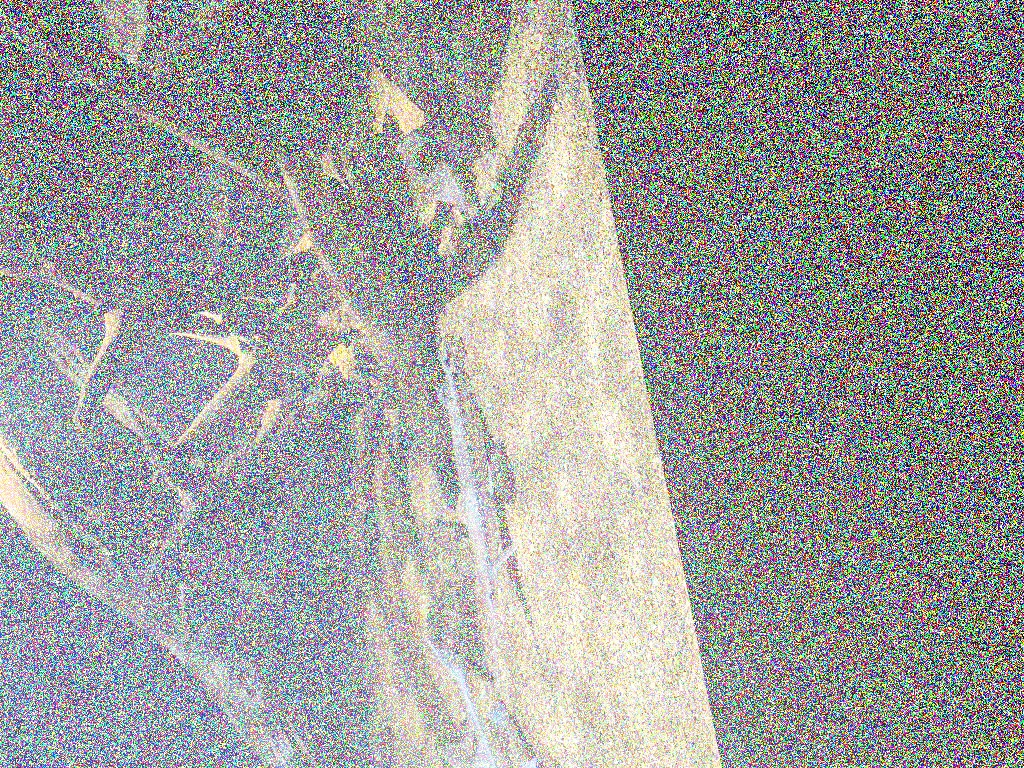fish: (436, 328, 512, 710)
shark: (396, 125, 500, 270), (423, 630, 533, 766)
